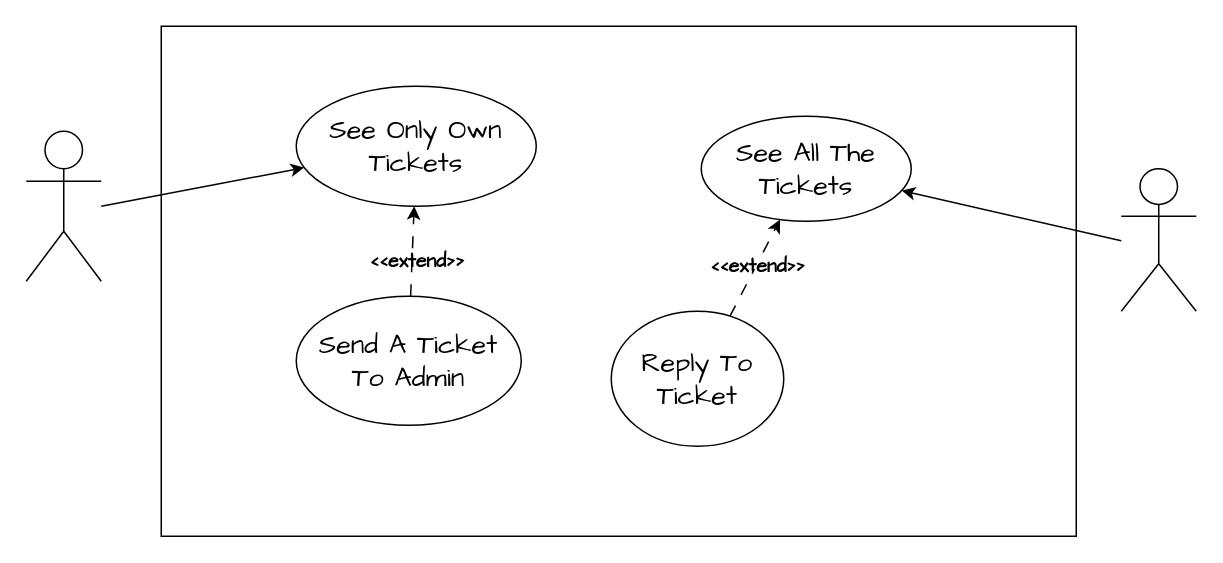
Image size: 1223x563. Some labels were removed from this diagram. Here are the shapes that lost their labels. From the top down, the centre of each, then its label:
the point at 63,205: user
the point at 1158,239: admin
